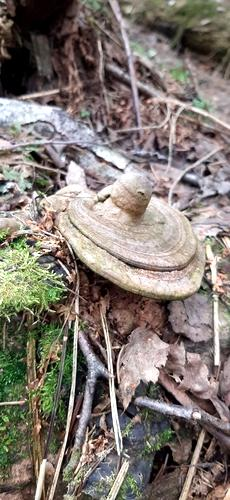Ganoderma - Fruit Body: (47, 162, 199, 298)
